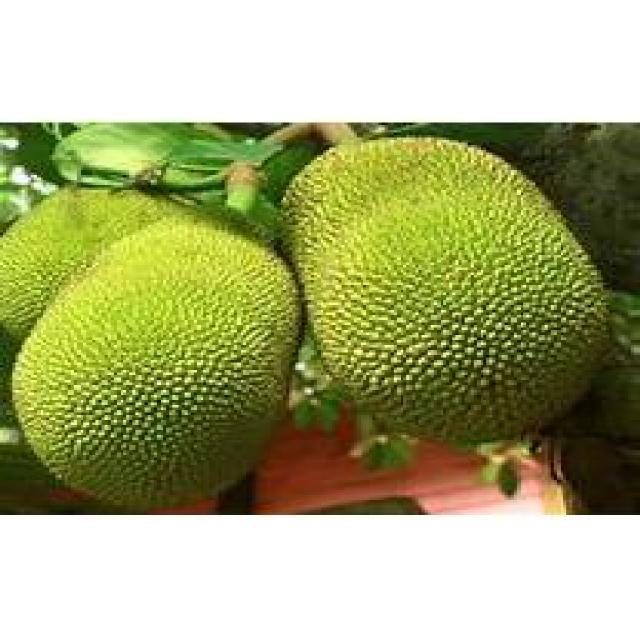Fruit: (283, 125, 631, 470), (0, 185, 317, 513)
